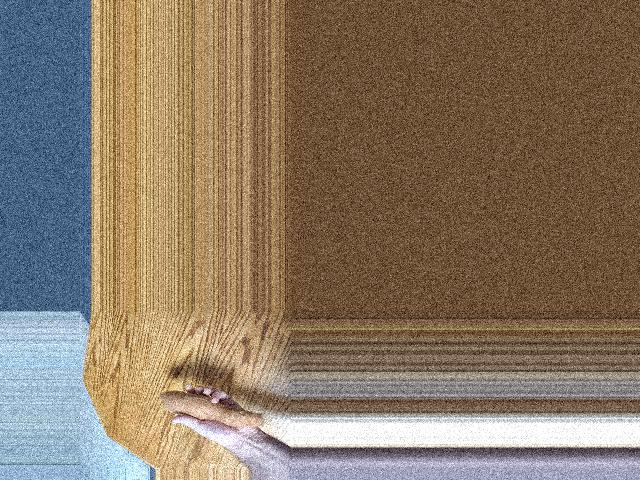sweet_potato: (158, 390, 261, 428)
